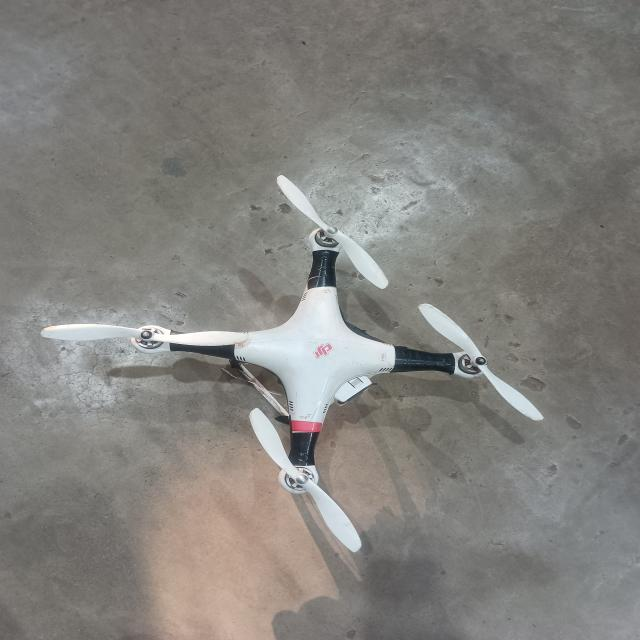drone: (46, 160, 559, 556)
